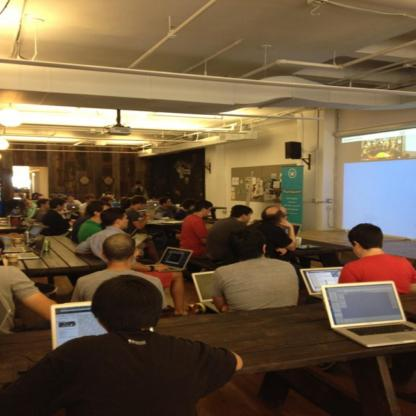board: (320, 280, 406, 338), (52, 304, 154, 348), (297, 264, 343, 302), (192, 270, 220, 314), (144, 247, 193, 272), (2, 232, 44, 261), (2, 235, 44, 252), (4, 224, 45, 240), (139, 210, 164, 221), (285, 223, 302, 239), (63, 204, 81, 212), (146, 200, 160, 210)
